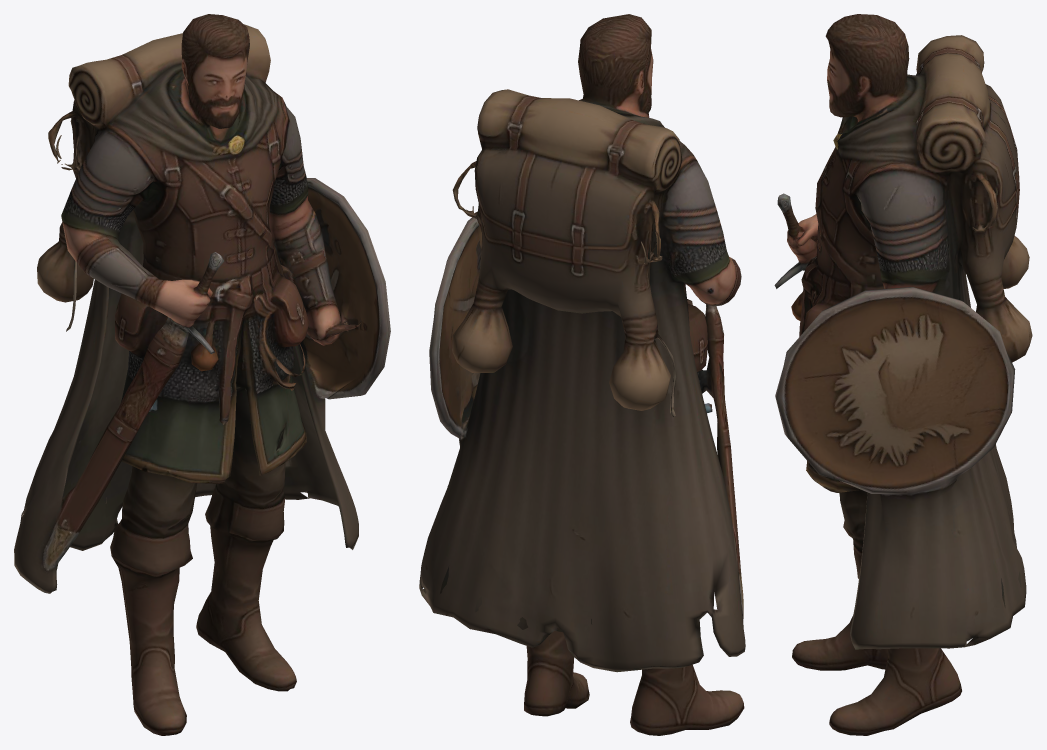
File: Guerreiro.glb
The picture shows the model from 3 angles, left to right: view 1: azimuth 30°, elevation 25°; view 2: azimuth 150°, elevation 25°; view 3: azimuth 270°, elevation 25°; orthographic projection. The views are drawn at different scales.
Parts seen in each view (by area): view 1: tripo_node_62d677af-9fc5-45e8-92ed-b2d3e574fab9; view 2: tripo_node_62d677af-9fc5-45e8-92ed-b2d3e574fab9; view 3: tripo_node_62d677af-9fc5-45e8-92ed-b2d3e574fab9.
Part boxes in pixels (x1,y1,x2,y2): tripo_node_62d677af-9fc5-45e8-92ed-b2d3e574fab9: (14, 14, 390, 735); tripo_node_62d677af-9fc5-45e8-92ed-b2d3e574fab9: (419, 14, 745, 735); tripo_node_62d677af-9fc5-45e8-92ed-b2d3e574fab9: (774, 14, 1032, 735).
Bounding box in the file's own units: 0.4762 × 0.9913 × 0.3394.
1 material, 1 textured.
